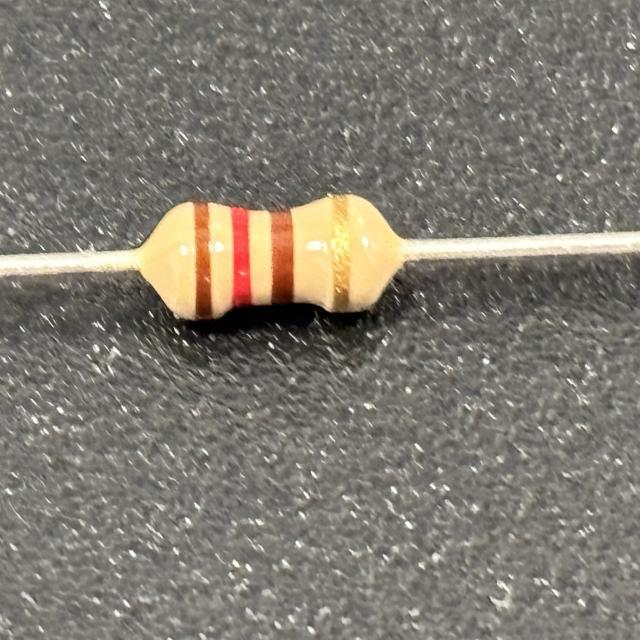resistor: (146, 186, 393, 326)
